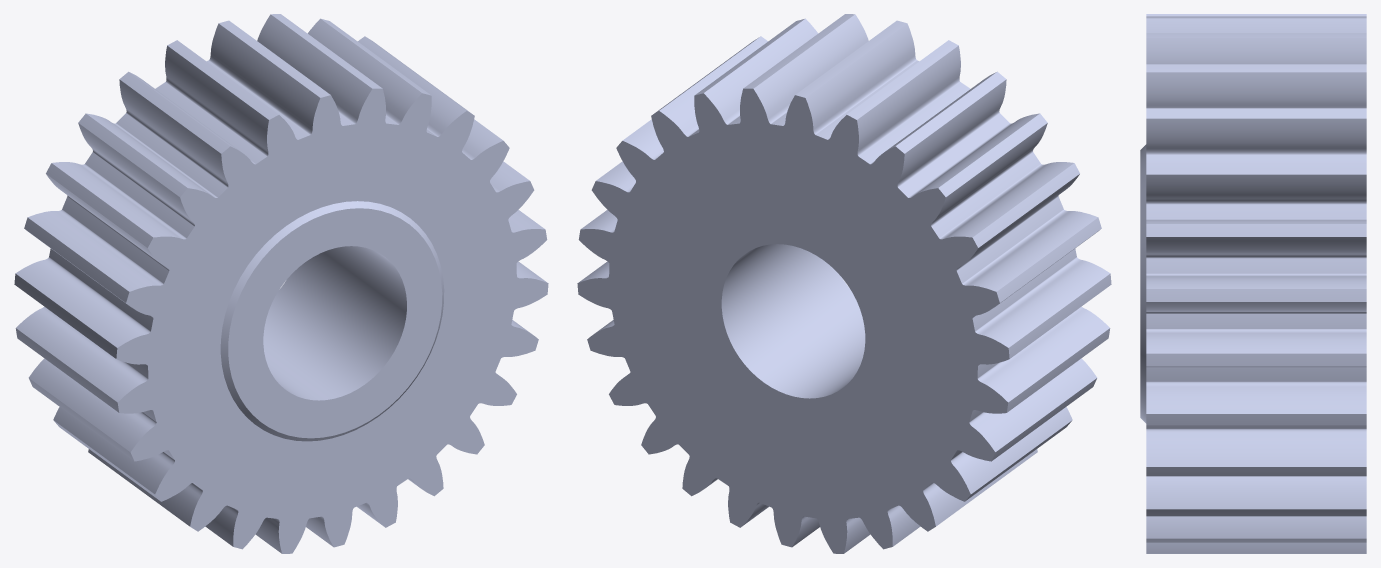
The model's file is REV_21_2103_P05_3_solid1.obj.
The picture shows the model from 3 angles, left to right: view 1: azimuth 30°, elevation 25°; view 2: azimuth 150°, elevation 25°; view 3: azimuth 270°, elevation 25°; orthographic projection. The views are drawn at different scales.
Parts seen in each view (by area): view 1: mesh25867, mesh25864, mesh25866, mesh25946, mesh25902, mesh25914, mesh25931, mesh25943, mesh25899, mesh25911, mesh25910, mesh25934 (+26 smaller); view 2: mesh25868, mesh25866, mesh25946, mesh25902, mesh25914, mesh25931, mesh25943, mesh25899, mesh25911, mesh25910, mesh25934, mesh25905 (+23 smaller); view 3: mesh25919, mesh25932, mesh25938, mesh25877, mesh25922, mesh25935, mesh25929, mesh25925, mesh25880, mesh25926, mesh25927, mesh25928 (+25 smaller).
Boxes of the visible parts, box(x1,y1,x2,y2) form: mesh25867: box(116, 88, 548, 553); mesh25864: box(228, 208, 442, 438); mesh25866: box(263, 247, 406, 400); mesh25946: box(209, 23, 320, 134); mesh25902: box(16, 307, 148, 402); mesh25914: box(15, 257, 150, 347); mesh25931: box(257, 14, 372, 123); mesh25943: box(165, 45, 268, 156); mesh25899: box(28, 358, 156, 451); mesh25911: box(28, 209, 163, 291); mesh25910: box(119, 79, 228, 187); mesh25934: box(308, 18, 421, 124); mesh25868: box(577, 88, 1009, 553); mesh25866: box(721, 245, 865, 398); mesh25946: box(805, 23, 916, 134); mesh25902: box(977, 307, 1109, 402); mesh25914: box(975, 257, 1110, 347); mesh25931: box(753, 14, 868, 123); mesh25943: box(857, 45, 960, 156); mesh25899: box(969, 358, 1097, 451); mesh25911: box(962, 209, 1097, 291); mesh25910: box(897, 79, 1006, 187); mesh25934: box(704, 18, 817, 124); mesh25905: box(939, 162, 1073, 239); mesh25919: box(1146, 428, 1366, 466); mesh25932: box(1146, 72, 1366, 108); mesh25938: box(1146, 118, 1366, 154); mesh25877: box(1146, 476, 1366, 509); mesh25922: box(1146, 381, 1366, 413); mesh25935: box(1146, 174, 1366, 204); mesh25929: box(1146, 38, 1366, 64); mesh25925: box(1146, 329, 1366, 353); mesh25880: box(1146, 516, 1366, 538); mesh25926: box(1146, 237, 1366, 258); mesh25927: box(1146, 258, 1366, 273); mesh25928: box(1146, 273, 1366, 288).
Size of the model in its own units: 0.0182 by 0.0182 by 0.00762.
